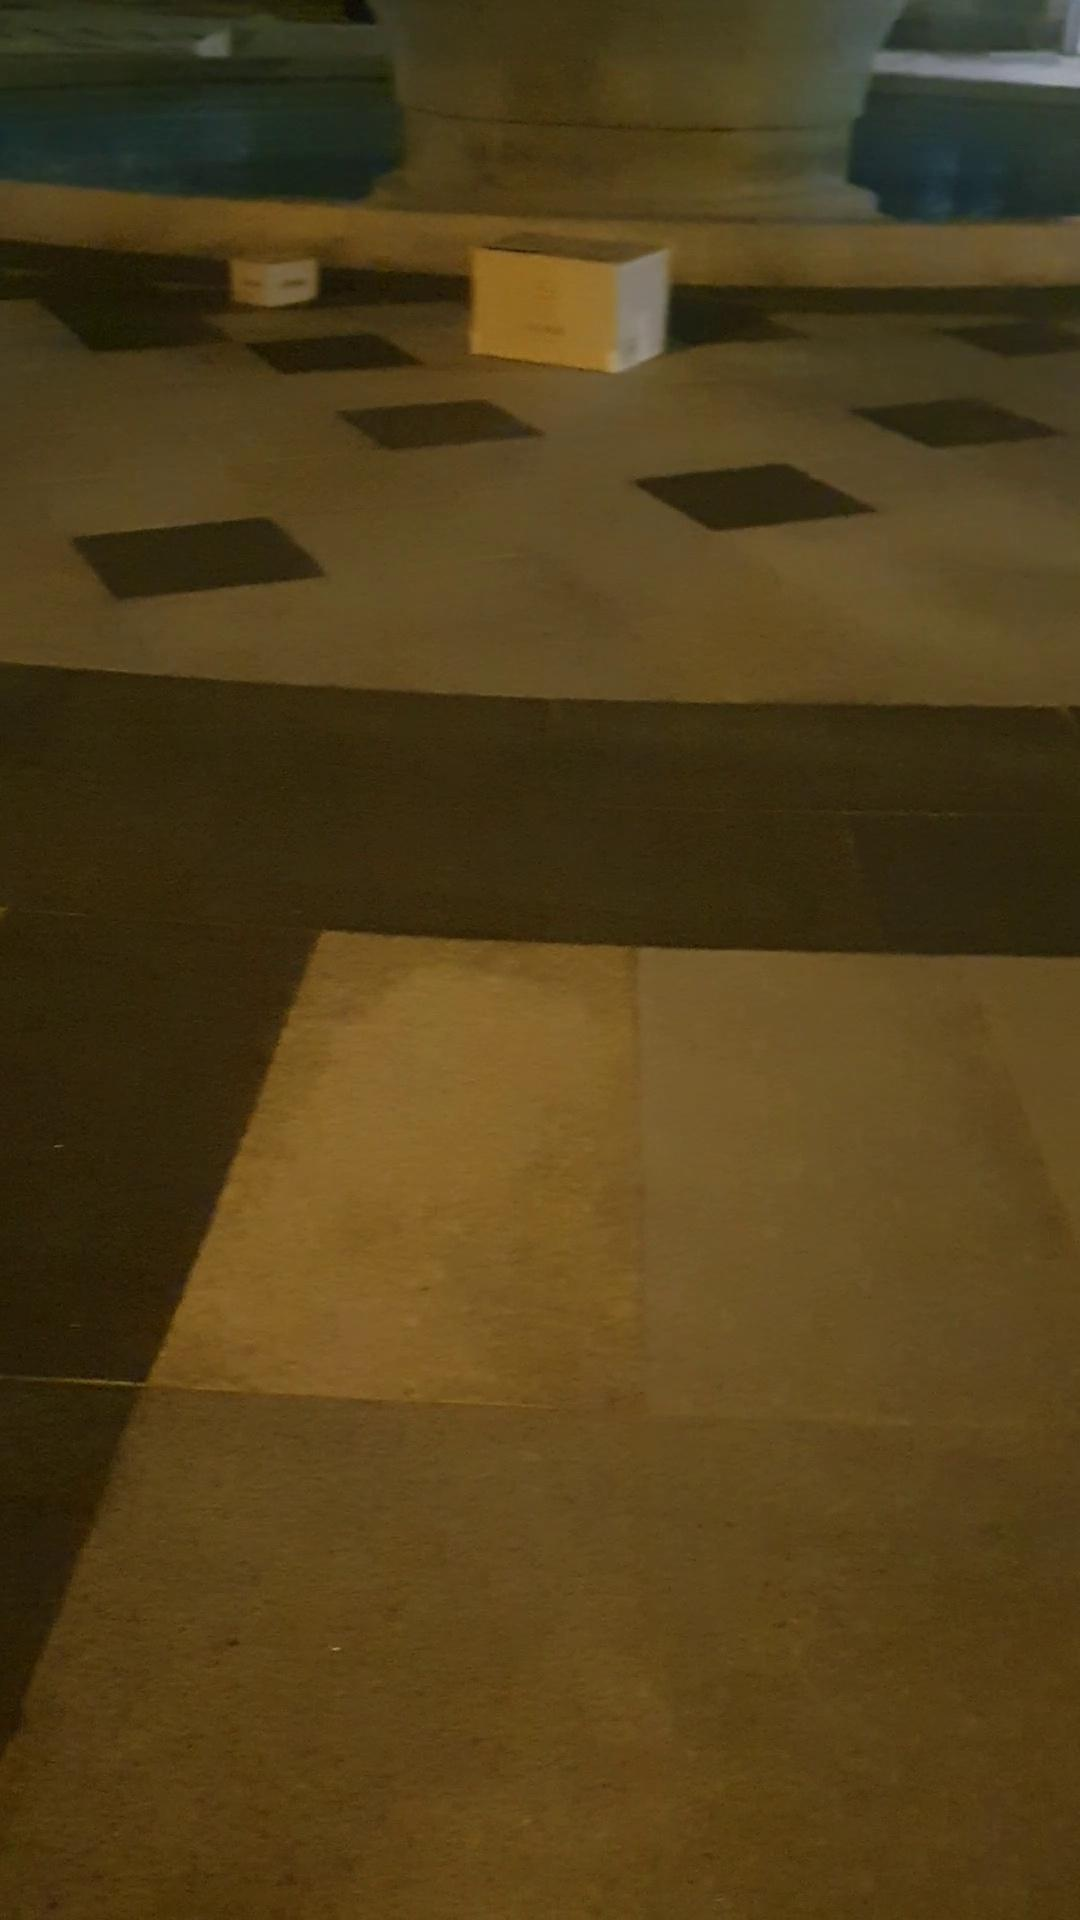Box: (456, 220, 682, 382), (208, 228, 335, 313)
